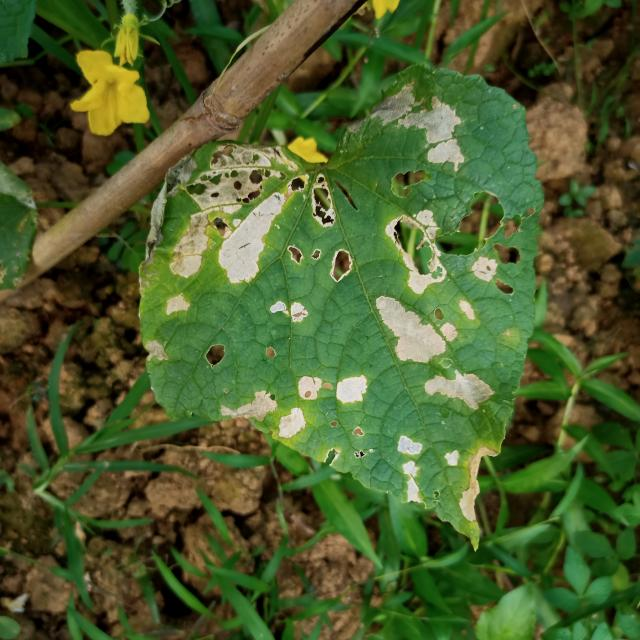disease_cucumber: (201, 296, 535, 536), (138, 136, 356, 370), (346, 71, 542, 303)
